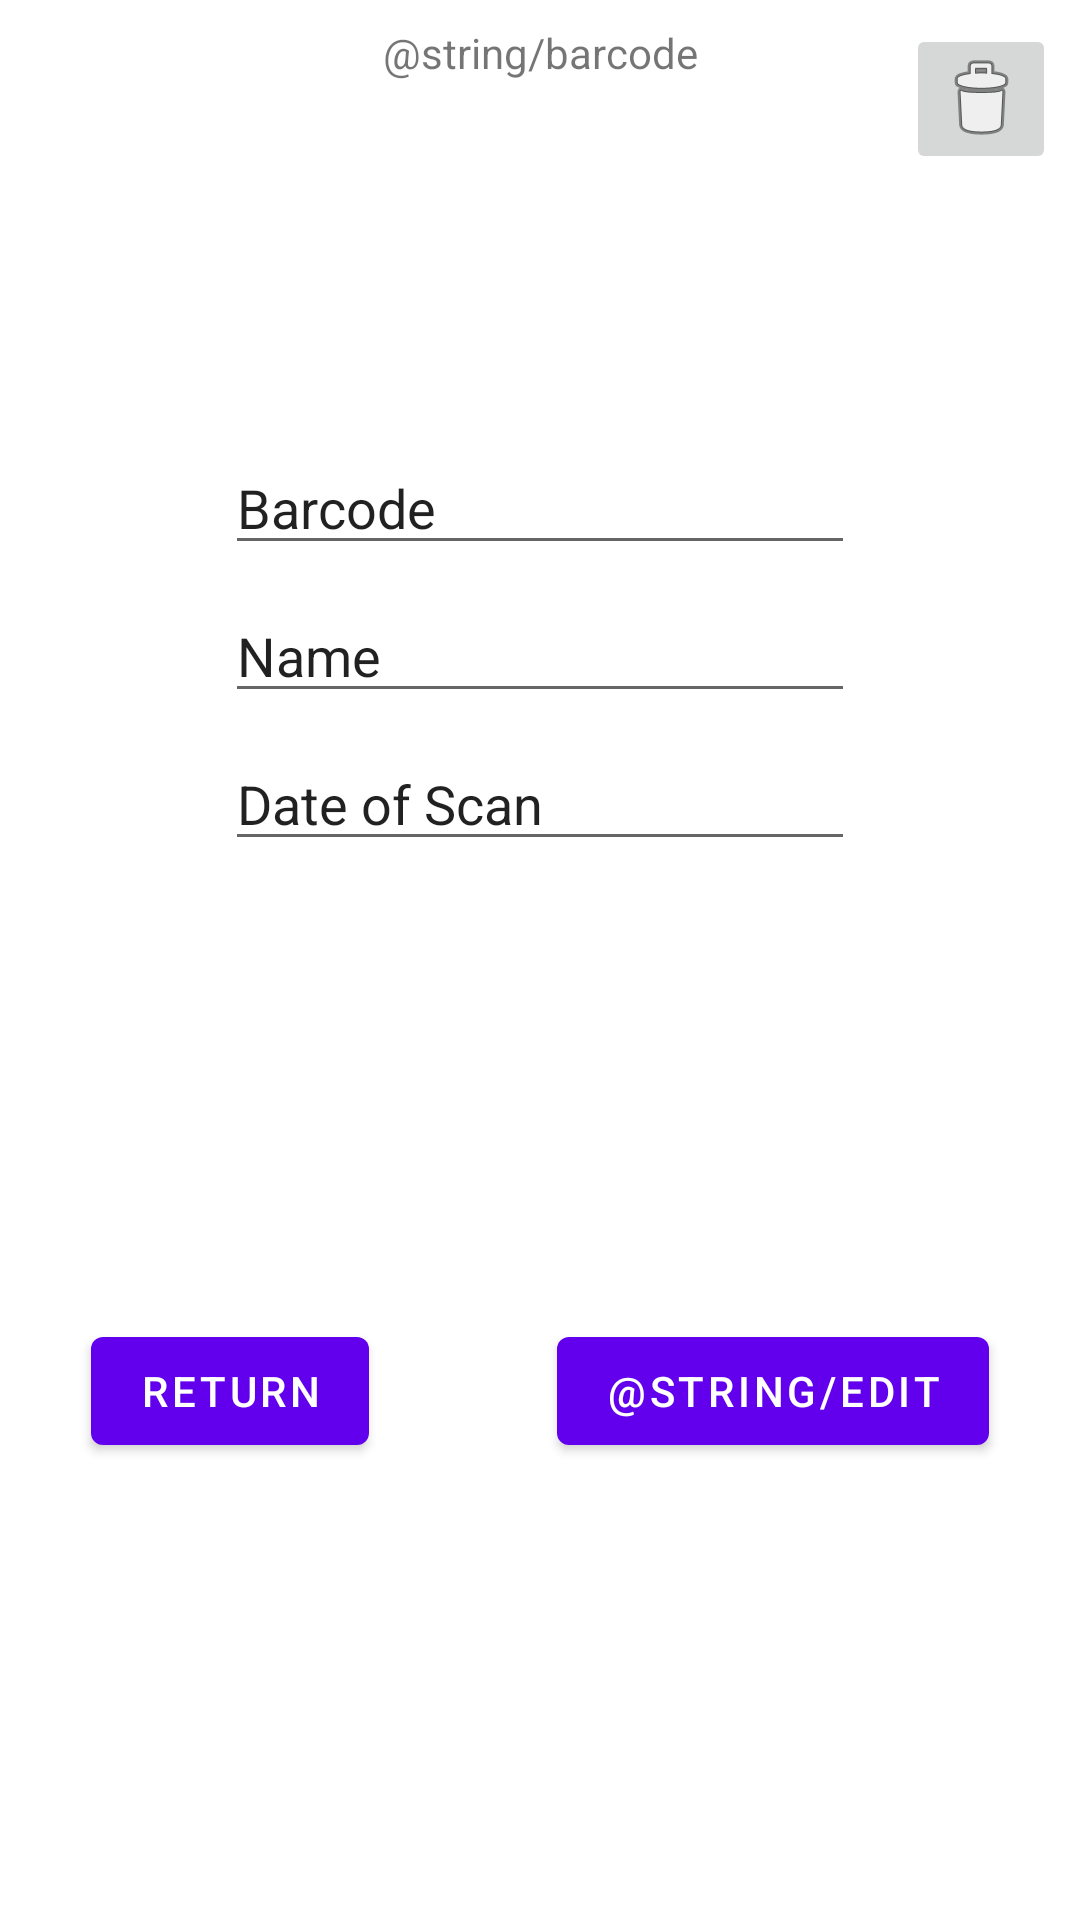

Point at icon controls on the screen. Image size 1080×1920, points as (x,y).
delete: (981,99)
